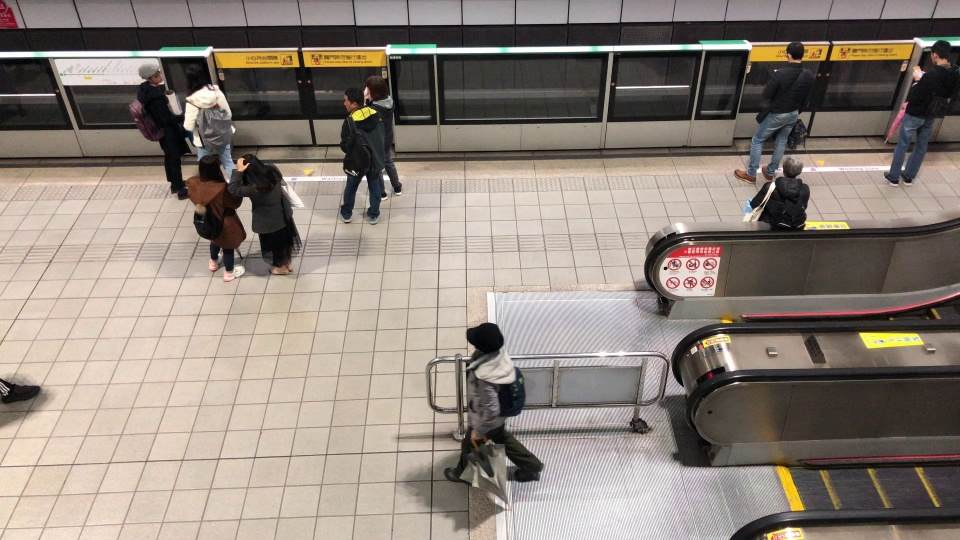person_head: (464, 322, 505, 355), (195, 155, 225, 185), (239, 153, 265, 187), (184, 63, 210, 94), (365, 75, 390, 100), (341, 87, 365, 113), (928, 40, 952, 66), (780, 156, 804, 180), (137, 63, 164, 84), (785, 40, 804, 63)
person_vbox: (443, 322, 550, 502), (732, 40, 818, 184), (880, 39, 960, 187), (225, 154, 306, 278), (126, 63, 193, 200), (182, 156, 248, 283), (330, 87, 383, 227), (180, 63, 238, 188), (738, 156, 814, 231), (360, 74, 404, 201)
